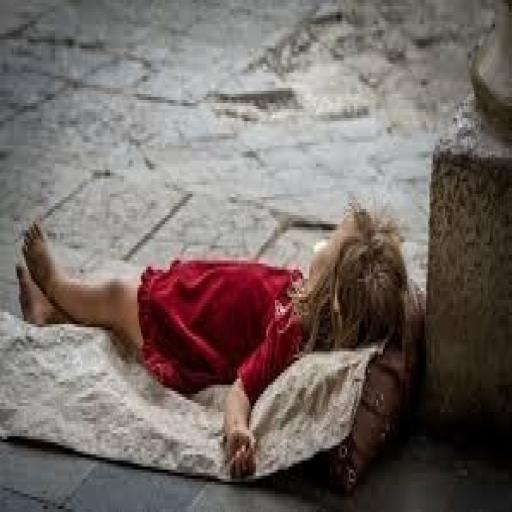sleeping: (14, 200, 426, 491)
